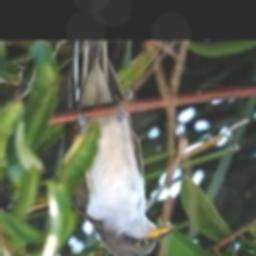Cuckoo: (64, 40, 173, 256)
